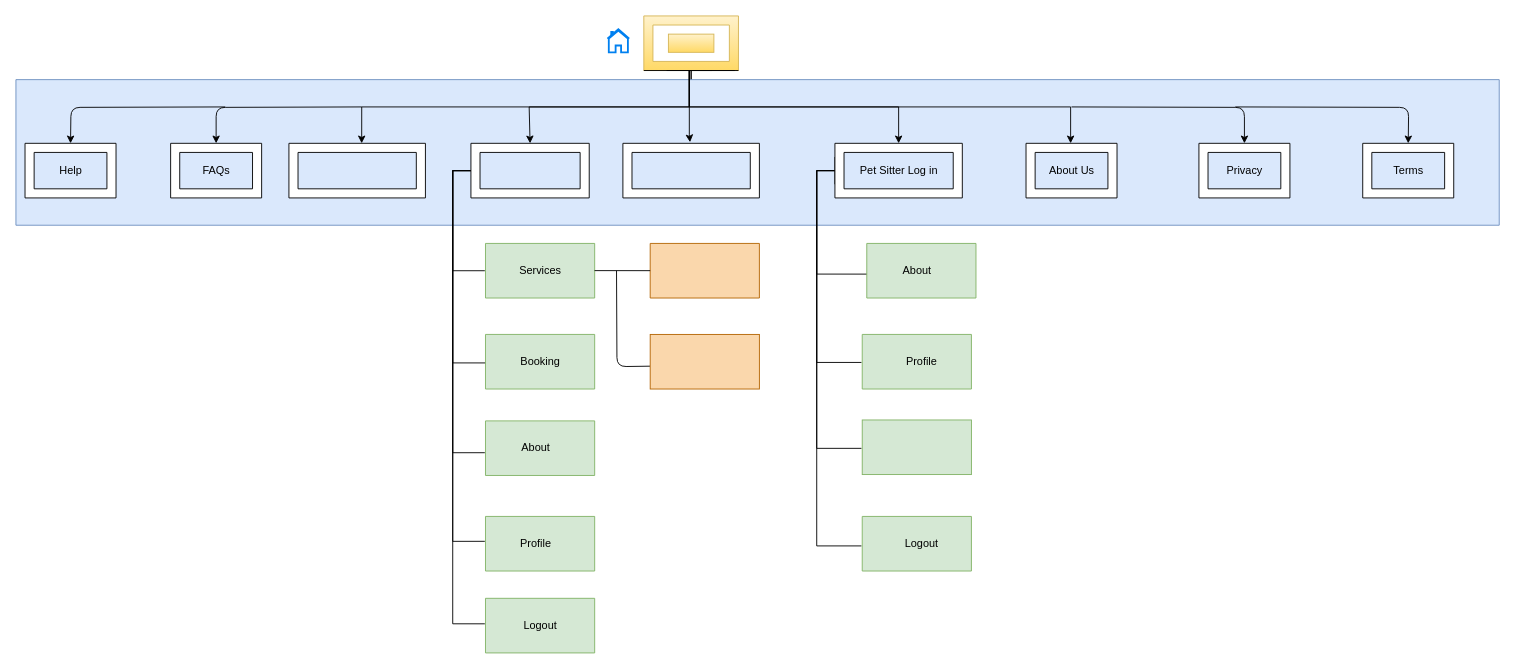
Image size: 1515x669. Some labels were removed from this diagram. The shapes that lost their labels are listed below. From the top down, each one's box as (x1, y1, x2, y2) in pixels, then its label:
(667, 33, 714, 52): HOME
(288, 142, 425, 198): Pet Owner Singn Up
(470, 142, 589, 198): Pet Owner Log In
(622, 142, 759, 198): Pet Sitter Singn Up
(649, 243, 759, 298): Pet Boarding
(649, 334, 759, 389): Pet Tracking
(861, 419, 971, 475): Bookings
